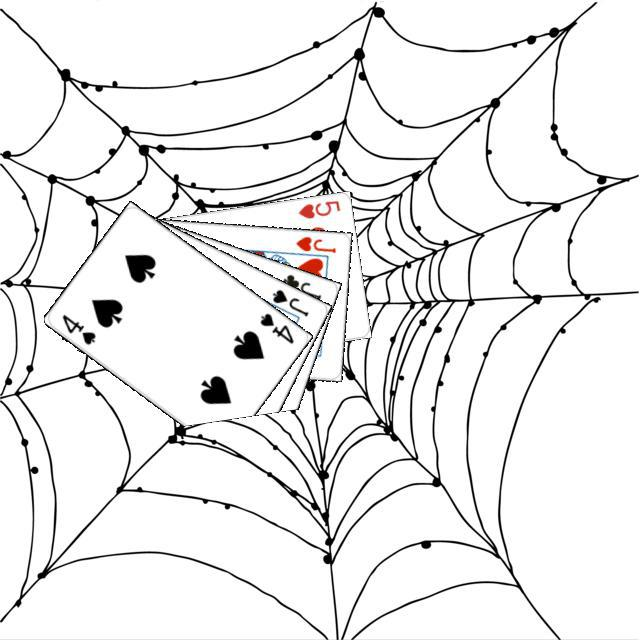4s: (255, 308, 296, 346), (57, 309, 98, 347)
5h: (293, 195, 342, 220)
Jc: (278, 269, 323, 302)
Jh: (291, 231, 337, 255)
Js: (267, 284, 310, 318)
